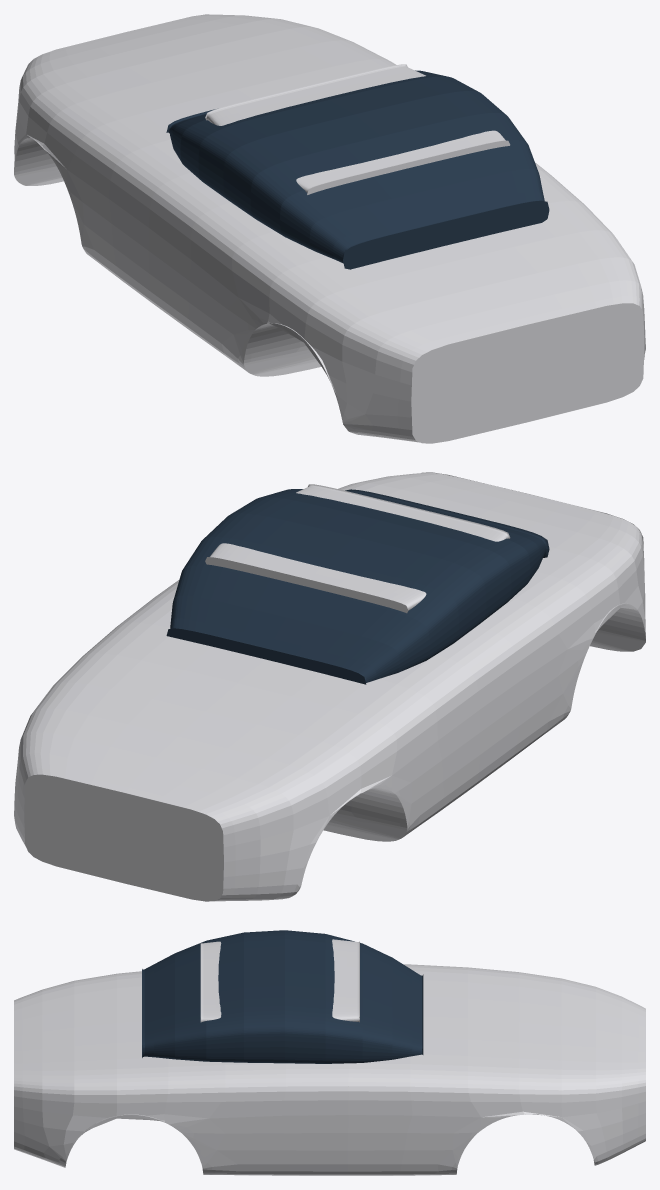
The model's file is hero-body.glb.
The picture shows the model from 3 angles, top to bottom: view 1: azimuth 30°, elevation 25°; view 2: azimuth 150°, elevation 25°; view 3: azimuth 270°, elevation 25°; orthographic projection. The views are drawn at different scales.
Parts seen in each view (by area): view 1: HeroBody, Glass, Roof; view 2: HeroBody, Glass, Roof; view 3: HeroBody, Glass, Roof.
Part boxes in pixels (bbox=[...]): HeroBody: bbox=[14, 14, 645, 443]; Glass: bbox=[166, 70, 549, 269]; Roof: bbox=[205, 64, 510, 194]; HeroBody: bbox=[14, 472, 645, 901]; Glass: bbox=[166, 489, 549, 684]; Roof: bbox=[205, 484, 510, 613]; HeroBody: bbox=[14, 964, 645, 1175]; Glass: bbox=[142, 930, 423, 1063]; Roof: bbox=[200, 939, 359, 1022].
Bounding box in the file's own units: 1.99 × 1.12 × 4.2.
